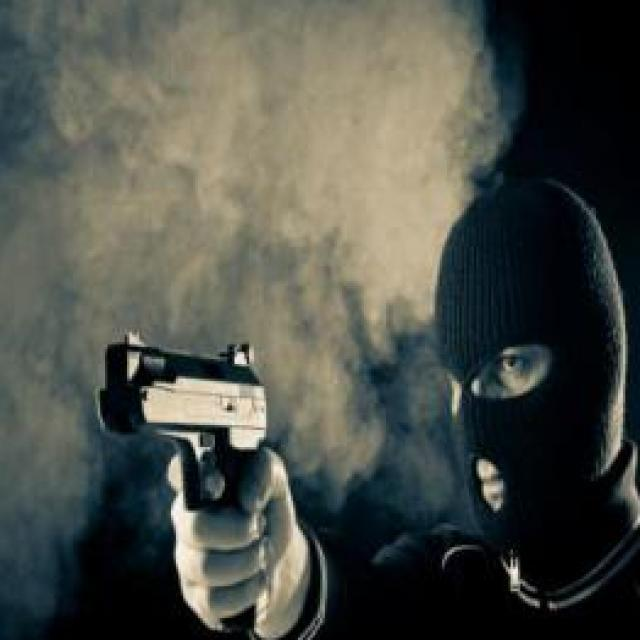pistol: (95, 322, 270, 514)
